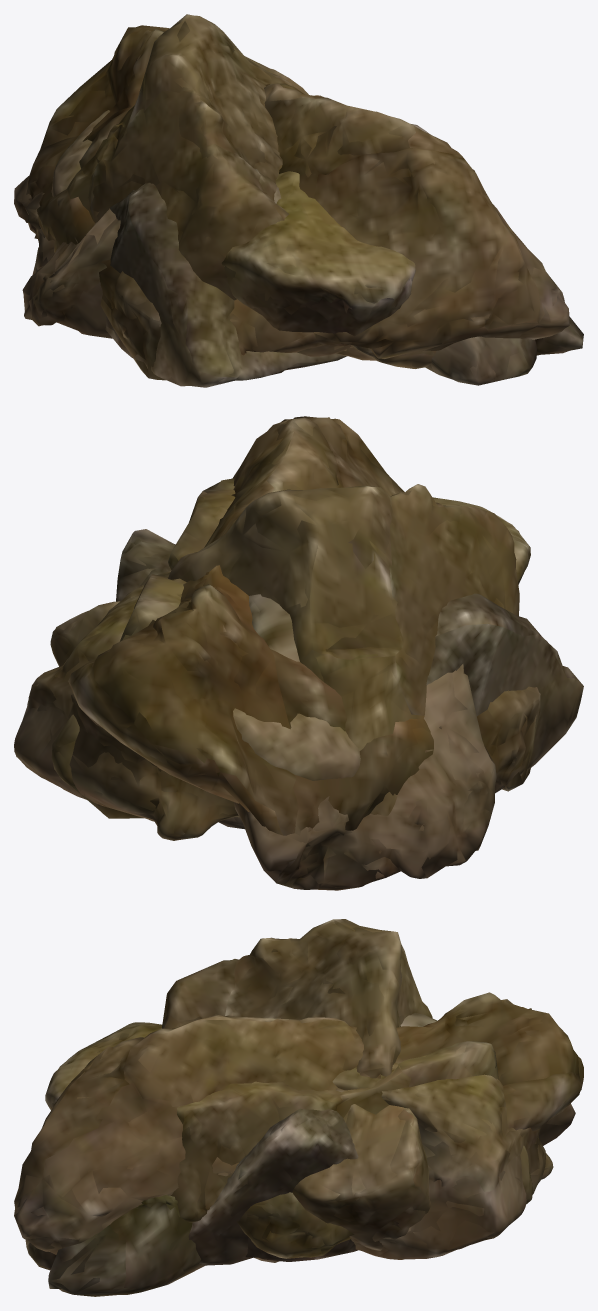
Rendered from rock_moss_set_01.glb.
The picture shows the model from 3 angles, top to bottom: view 1: azimuth 30°, elevation 25°; view 2: azimuth 150°, elevation 25°; view 3: azimuth 270°, elevation 25°; orthographic projection. The views are drawn at different scales.
Parts seen in each view (by area): view 1: rock_moss_set_01_rock01, rock_moss_set_01_rock01_lo, rock_moss_set_01_rock04, rock_moss_set_01_rock05, rock_moss_set_01_rock03, rock_moss_set_01_rock04_lo, rock_moss_set_01_rock02, rock_moss_set_01_rock05_lo, rock_moss_set_01_rock02_lo, rock_moss_set_01_rock03_lo, rock_moss_set_01_rock06, rock_moss_set_01_rock06_lo; view 2: rock_moss_set_01_rock01, rock_moss_set_01_rock04_lo, rock_moss_set_01_rock04, rock_moss_set_01_rock01_lo, rock_moss_set_01_rock05, rock_moss_set_01_rock02, rock_moss_set_01_rock03, rock_moss_set_01_rock02_lo, rock_moss_set_01_rock05_lo, rock_moss_set_01_rock03_lo, rock_moss_set_01_rock06, rock_moss_set_01_rock06_lo; view 3: rock_moss_set_01_rock01, rock_moss_set_01_rock01_lo, rock_moss_set_01_rock04, rock_moss_set_01_rock05, rock_moss_set_01_rock04_lo, rock_moss_set_01_rock06, rock_moss_set_01_rock02, rock_moss_set_01_rock06_lo, rock_moss_set_01_rock05_lo, rock_moss_set_01_rock03, rock_moss_set_01_rock03_lo, rock_moss_set_01_rock02_lo.
Boxes of the visible parts, bbox=[...] form: rock_moss_set_01_rock01: bbox=[26, 25, 569, 380]; rock_moss_set_01_rock01_lo: bbox=[28, 27, 557, 377]; rock_moss_set_01_rock04: bbox=[54, 14, 322, 300]; rock_moss_set_01_rock05: bbox=[51, 93, 415, 356]; rock_moss_set_01_rock03: bbox=[106, 131, 430, 387]; rock_moss_set_01_rock04_lo: bbox=[70, 14, 288, 281]; rock_moss_set_01_rock02: bbox=[14, 176, 583, 385]; rock_moss_set_01_rock05_lo: bbox=[72, 111, 413, 349]; rock_moss_set_01_rock02_lo: bbox=[14, 188, 583, 385]; rock_moss_set_01_rock03_lo: bbox=[105, 124, 426, 387]; rock_moss_set_01_rock06: bbox=[244, 56, 436, 368]; rock_moss_set_01_rock06_lo: bbox=[259, 63, 434, 368]; rock_moss_set_01_rock01: bbox=[68, 416, 540, 846]; rock_moss_set_01_rock04_lo: bbox=[51, 487, 517, 814]; rock_moss_set_01_rock04: bbox=[50, 484, 519, 816]; rock_moss_set_01_rock01_lo: bbox=[87, 419, 539, 833]; rock_moss_set_01_rock05: bbox=[14, 497, 530, 840]; rock_moss_set_01_rock02: bbox=[234, 594, 496, 890]; rock_moss_set_01_rock03: bbox=[116, 529, 583, 829]; rock_moss_set_01_rock02_lo: bbox=[238, 597, 495, 890]; rock_moss_set_01_rock05_lo: bbox=[33, 505, 523, 834]; rock_moss_set_01_rock03_lo: bbox=[117, 529, 579, 824]; rock_moss_set_01_rock06: bbox=[51, 478, 235, 813]; rock_moss_set_01_rock06_lo: bbox=[52, 482, 235, 818]; rock_moss_set_01_rock01: bbox=[14, 992, 583, 1262]; rock_moss_set_01_rock01_lo: bbox=[14, 992, 583, 1260]; rock_moss_set_01_rock04: bbox=[162, 919, 432, 1250]; rock_moss_set_01_rock05: bbox=[45, 1022, 553, 1259]; rock_moss_set_01_rock04_lo: bbox=[164, 919, 430, 1242]; rock_moss_set_01_rock06: bbox=[171, 1041, 532, 1258]; rock_moss_set_01_rock02: bbox=[26, 1013, 575, 1296]; rock_moss_set_01_rock06_lo: bbox=[179, 1041, 531, 1258]; rock_moss_set_01_rock05_lo: bbox=[49, 1022, 551, 1255]; rock_moss_set_01_rock03: bbox=[189, 1109, 358, 1265]; rock_moss_set_01_rock03_lo: bbox=[188, 1108, 354, 1264]; rock_moss_set_01_rock02_lo: bbox=[25, 1024, 570, 1296].
Bounding box in the file's own units: 2.66 × 1.77 × 3.36.
Materials: 1 (1 with a texture image).
